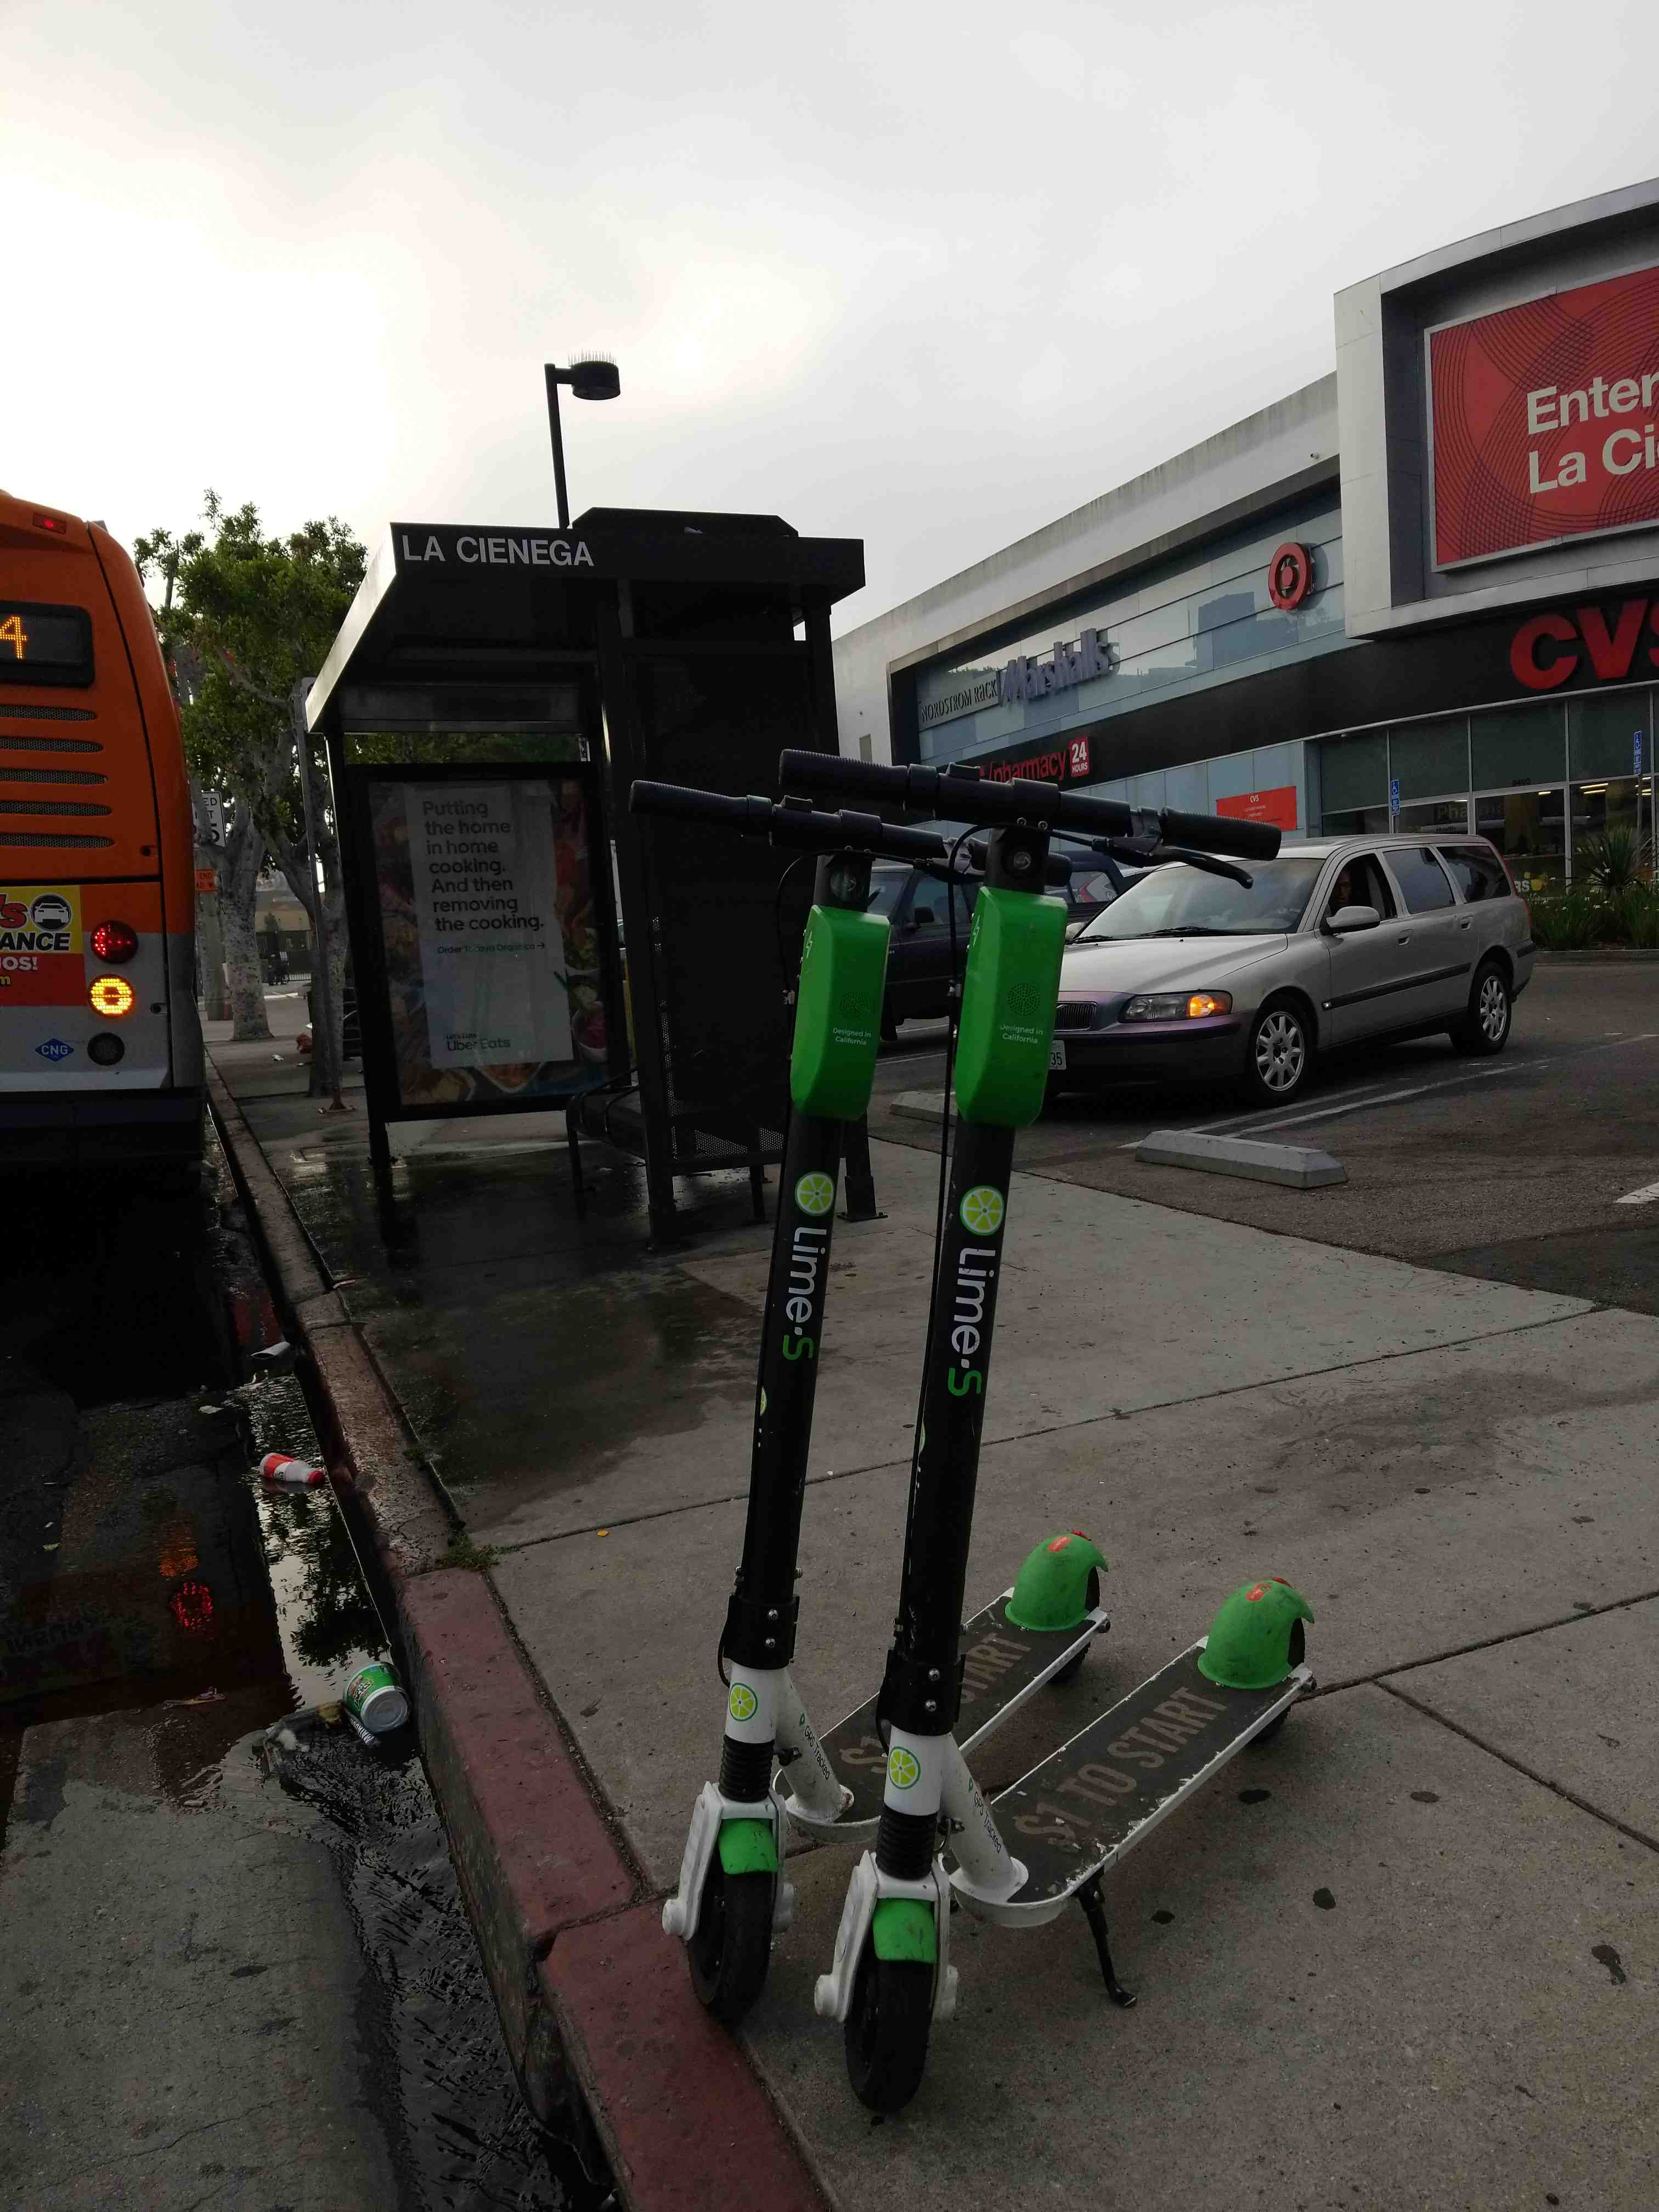too close: (460, 1747, 836, 2128)
